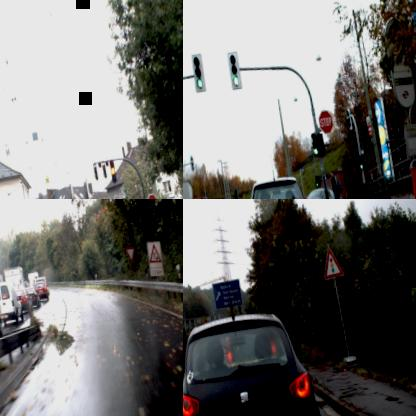CONSTRUCTION: (146, 242, 162, 263)
STOP: (317, 108, 334, 134), (145, 192, 159, 199)
give way: (124, 244, 136, 262)
traffic signal: (319, 245, 344, 280)
